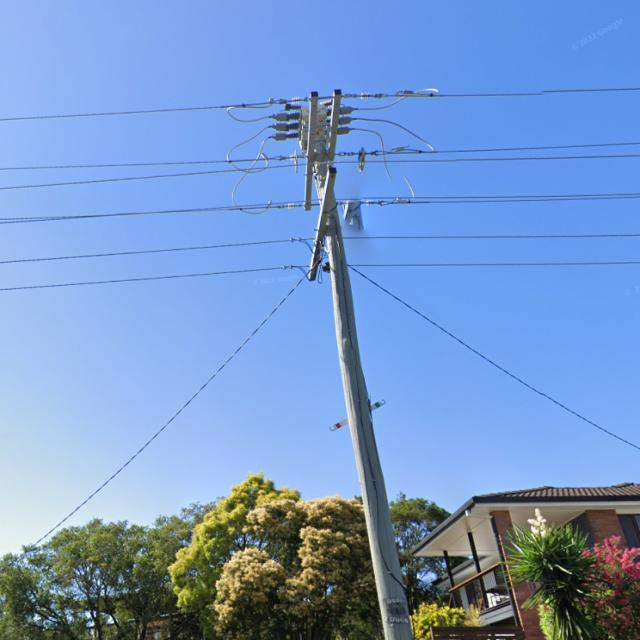HV-switch: (269, 104, 360, 152)
HV-transmission: (272, 92, 392, 206)
crossarm: (303, 88, 342, 212), (307, 166, 337, 282)
timber-pole: (311, 138, 416, 640)
